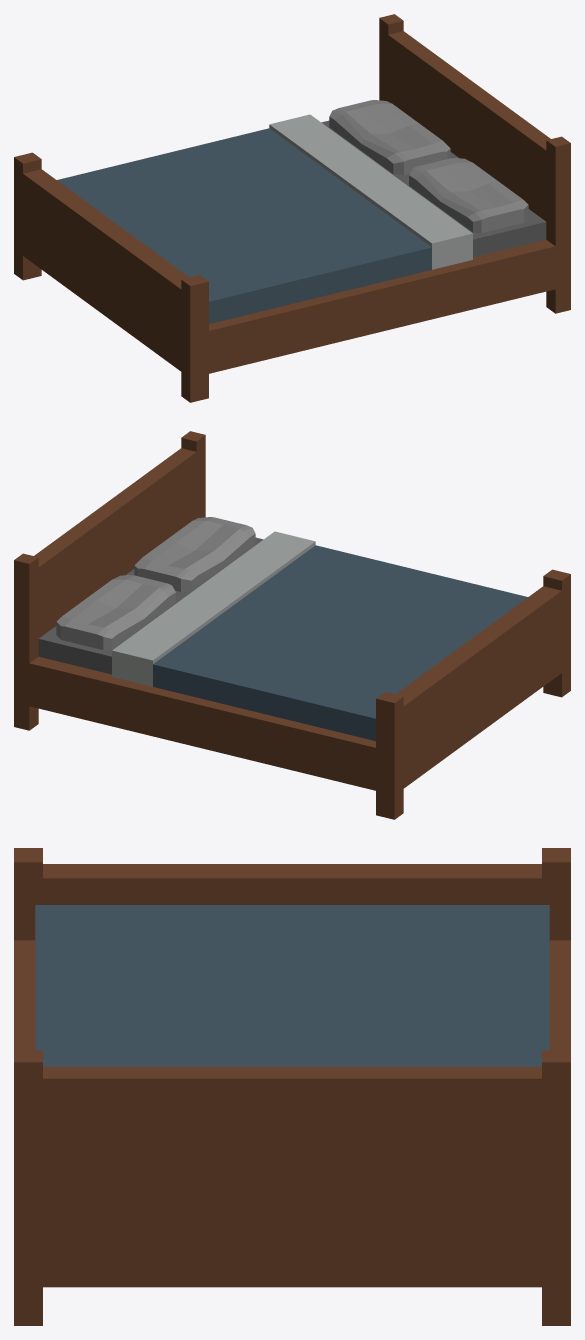
The model's file is Bed.fbx.
3 renders of one model, top to bottom at view 1: azimuth 30°, elevation 25°; view 2: azimuth 150°, elevation 25°; view 3: azimuth 270°, elevation 25°, orthographic. The views are drawn at different scales.
Visible parts, largest first — view 1: Bed; view 2: Bed; view 3: Bed.
Boxes of the visible parts, box(x1,y1,x2,y2) form: Bed: box(14, 14, 570, 402); Bed: box(14, 431, 570, 819); Bed: box(14, 848, 570, 1325).
Bounding box in the file's own units: 3707 × 1552 × 2974.
